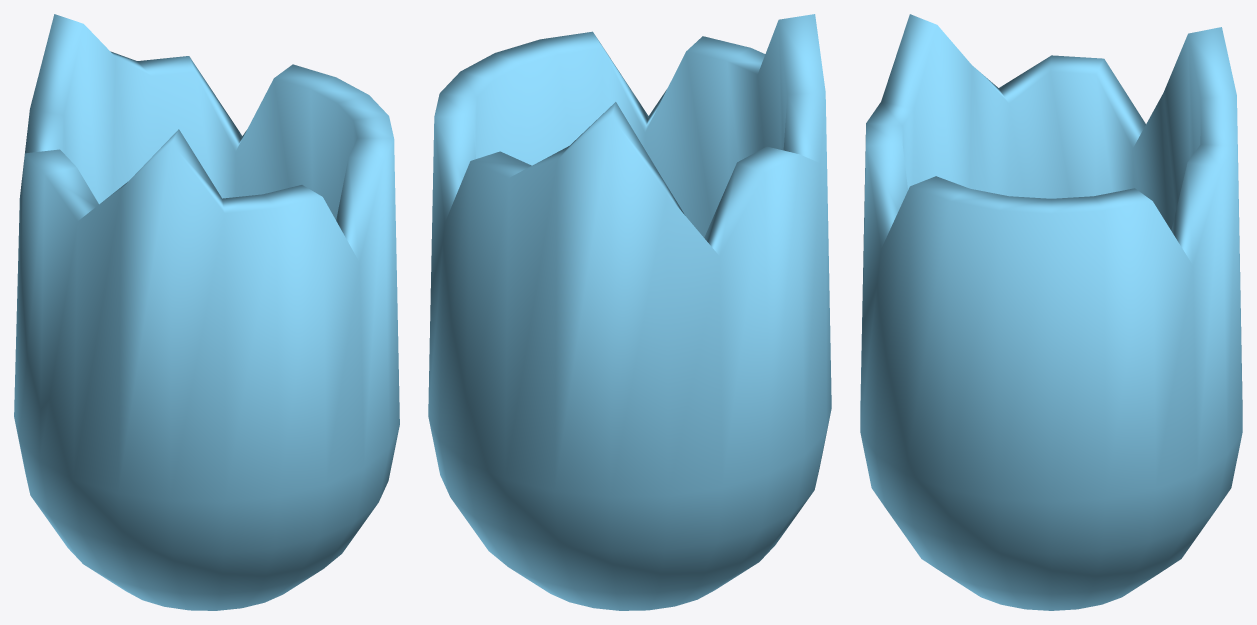
Rendered from BrokenFlaskThinLower.fbx.
The picture shows the model from 3 angles, left to right: view 1: azimuth 30°, elevation 25°; view 2: azimuth 150°, elevation 25°; view 3: azimuth 270°, elevation 25°; orthographic projection. The views are drawn at different scales.
Visible parts, largest first — view 1: BrokenFlaskThinLower; view 2: BrokenFlaskThinLower; view 3: BrokenFlaskThinLower.
Part boxes in pixels (x1=…): BrokenFlaskThinLower: x1=14, y1=14, x2=399, y2=610; BrokenFlaskThinLower: x1=428, y1=14, x2=831, y2=610; BrokenFlaskThinLower: x1=860, y1=14, x2=1242, y2=610.
Size of the model in its own units: 10.62 by 16.15 by 10.52.
